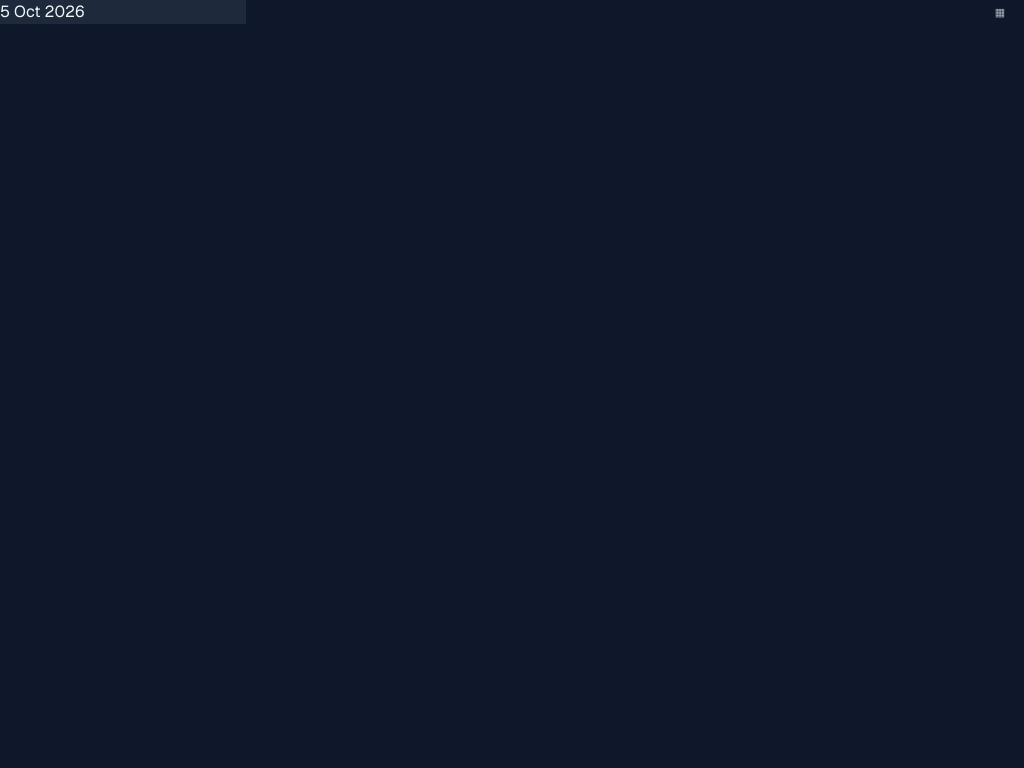
it: DateInput › picks a day from the calendar popover and respects max
Later steps or results of the test are not shown.
Step 1. Click the button named "Open calendar" → click(1000, 12), box left=990, top=2, right=1010, bottom=22
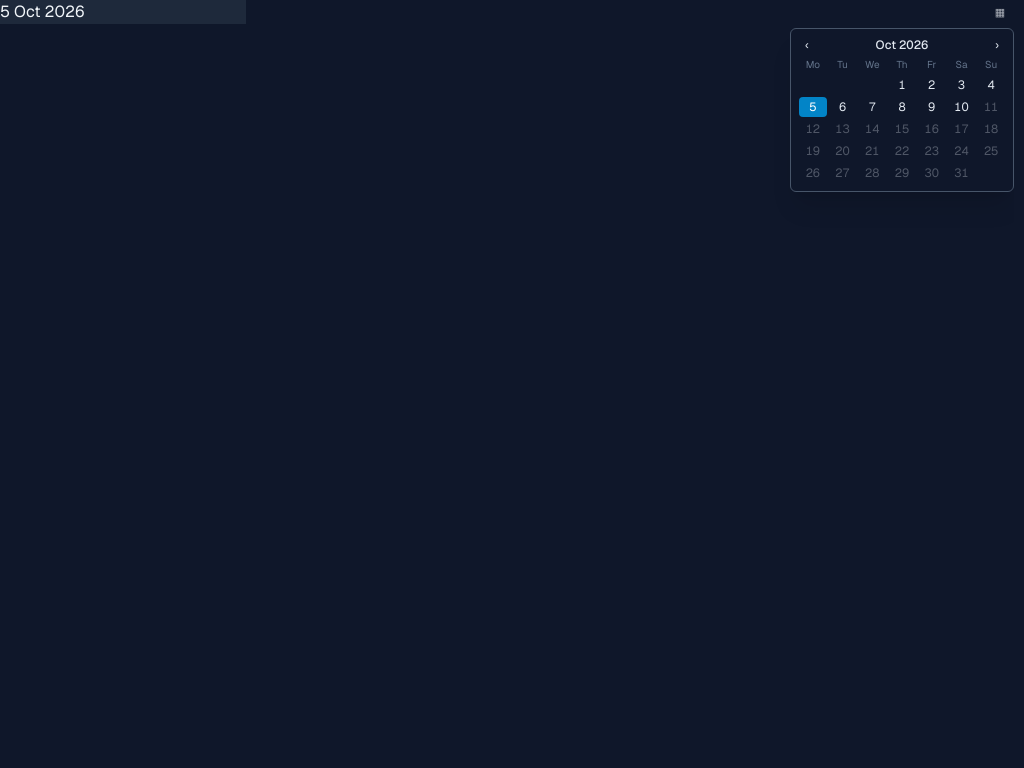
Expected: the dialog with test id "date-popover" is shown, left=790, top=28, right=1014, bottom=192
Expected: the button named "20 Oct 2026" is disabled, left=829, top=141, right=856, bottom=161
